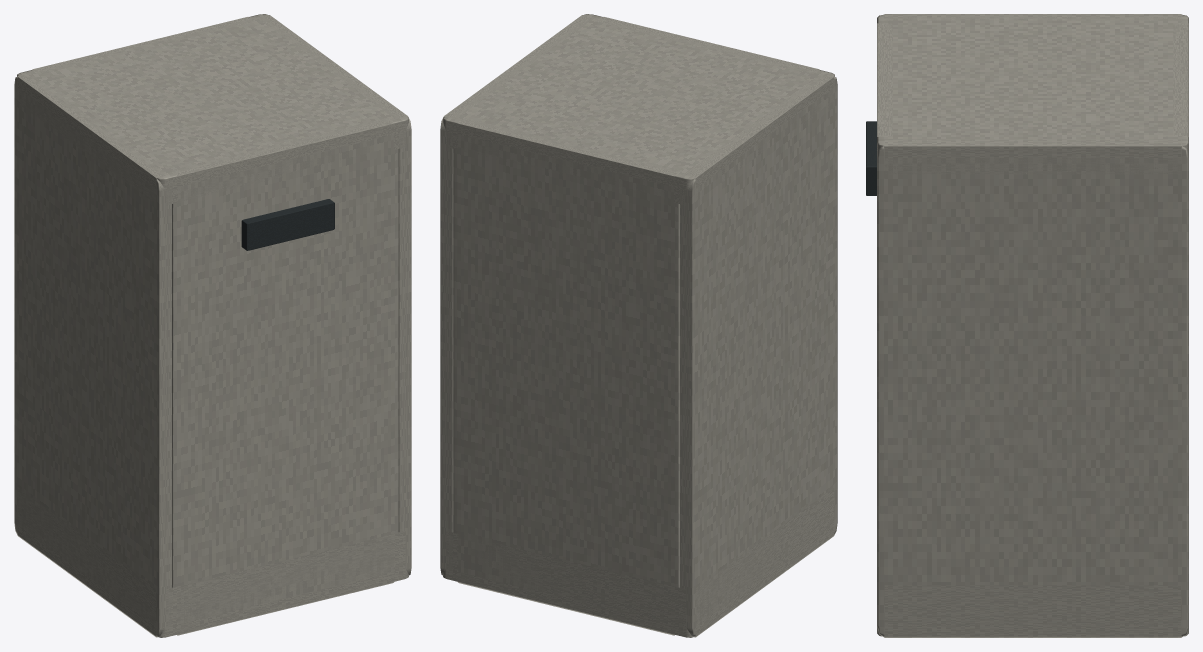
Rendered from trash.glb.
3 views of the same model, side by side, from view 1: azimuth 30°, elevation 25°; view 2: azimuth 150°, elevation 25°; view 3: azimuth 270°, elevation 25° (orthographic). The views are drawn at different scales.
Parts seen in each view (by area): view 1: edge (×2), side (×2), lid, bottom, grip; view 2: edge (×2), side (×2), lid, bottom; view 3: side (×2), lid, bottom, edge (×2), grip.
Part boxes in pixels (x1=…): edge (×2): x1=32, y1=17, x2=399, y2=635; side (×2): x1=14, y1=15, x2=411, y2=637; lid: x1=17, y1=14, x2=408, y2=205; bottom: x1=17, y1=487, x2=408, y2=637; grip: x1=241, y1=199, x2=334, y2=250; edge (×2): x1=452, y1=17, x2=819, y2=635; side (×2): x1=440, y1=15, x2=837, y2=637; lid: x1=443, y1=14, x2=834, y2=204; bottom: x1=443, y1=487, x2=834, y2=637; side (×2): x1=877, y1=14, x2=1188, y2=637; lid: x1=877, y1=14, x2=1188, y2=174; bottom: x1=877, y1=585, x2=1188, y2=636; edge (×2): x1=877, y1=23, x2=1188, y2=136; grip: x1=866, y1=121, x2=876, y2=195.
Size of the model in its own units: 0.31 by 0.54 by 0.3208.
2 materials, 2 textured.
